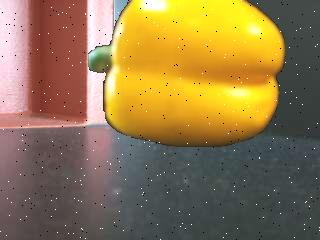Capsicum: (94, 0, 287, 151)
